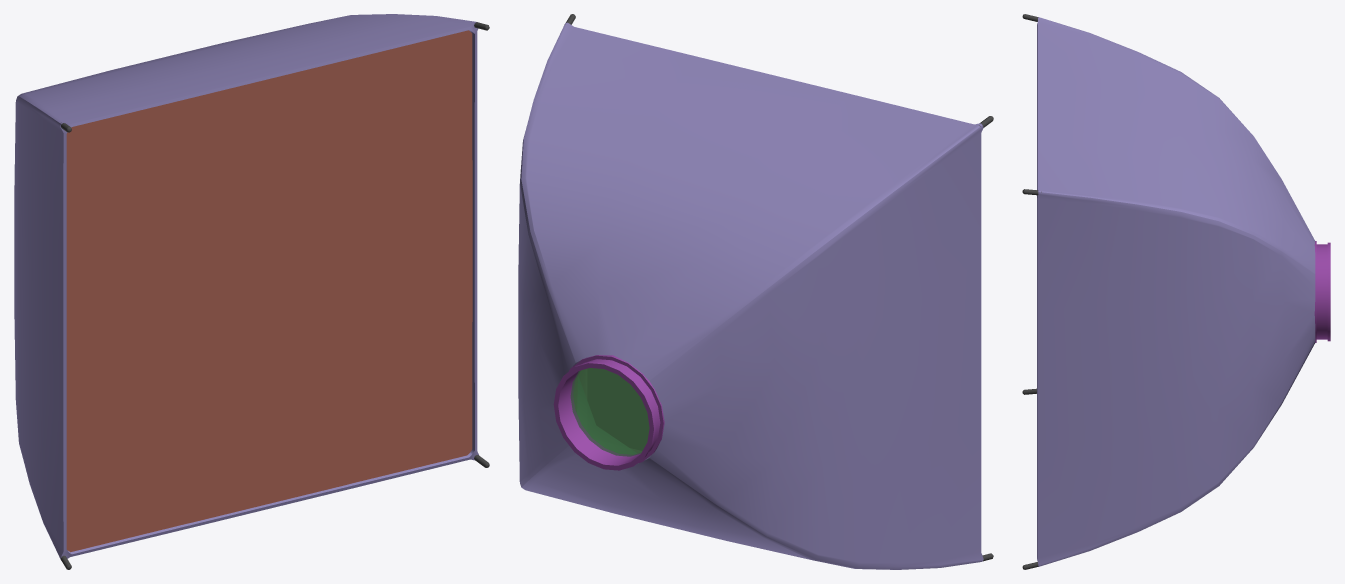
Rendered from TripodSquareBox_01_Mesh.fbx.
3 views of the same model, side by side, from view 1: azimuth 30°, elevation 25°; view 2: azimuth 150°, elevation 25°; view 3: azimuth 270°, elevation 25° (orthographic). The views are drawn at different scales.
Visible parts, largest first — view 1: TripodSquareBox_01_LOD0; view 2: TripodSquareBox_01_LOD0, TripodSquareBox_01_col; view 3: TripodSquareBox_01_LOD0.
Boxes of the visible parts, x1,y1,x2,y2 form: TripodSquareBox_01_LOD0: (14, 14, 489, 569); TripodSquareBox_01_LOD0: (518, 14, 993, 569); TripodSquareBox_01_col: (570, 368, 649, 456); TripodSquareBox_01_LOD0: (1022, 14, 1330, 569).
Size of what is drawn, in the model's own units: 0.7032 by 0.7034 by 0.5158.
